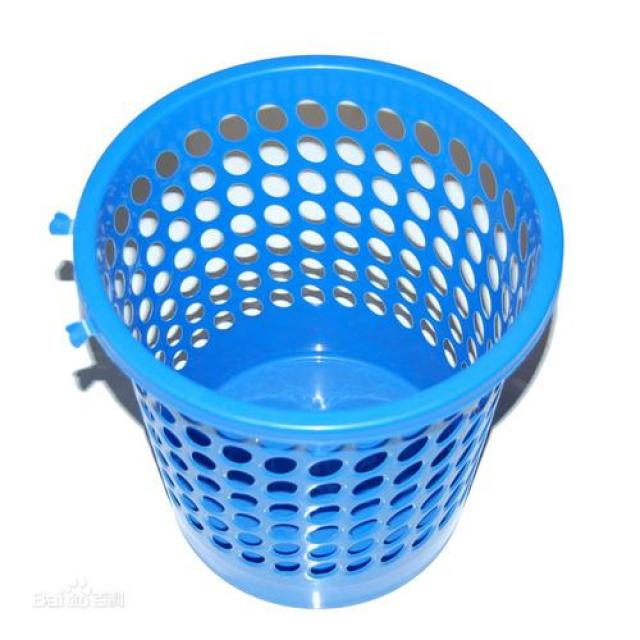Dustbin: (45, 49, 571, 611)
